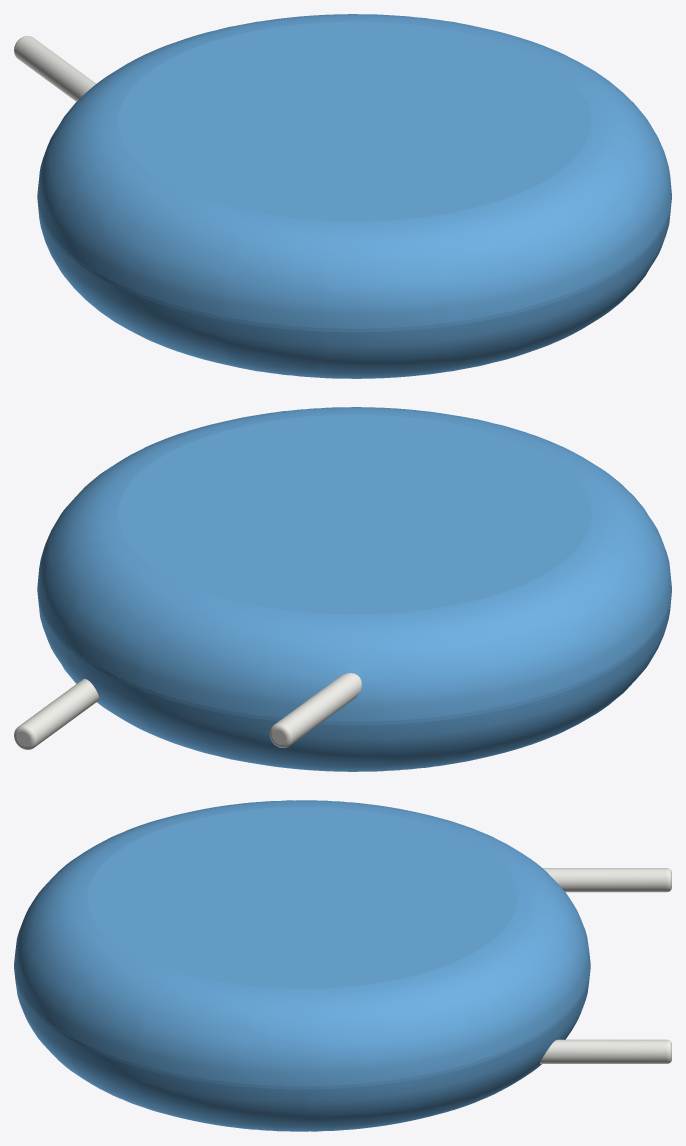
File: RV_Disc_D21.5mm_W5.6mm_P10mm.glb
3 renders of one model, top to bottom at view 1: azimuth 30°, elevation 25°; view 2: azimuth 150°, elevation 25°; view 3: azimuth 270°, elevation 25°, orthographic. The views are drawn at different scales.
Parts seen in each view (by area): view 1: Shape_IndexedFaceSet.001, Shape_IndexedFaceSet.003, Shape_IndexedFaceSet.002, Shape_IndexedFaceSet, Shape_IndexedFaceSet.004; view 2: Shape_IndexedFaceSet.001, Shape_IndexedFaceSet.003, Shape_IndexedFaceSet.002, Shape_IndexedFaceSet, Shape_IndexedFaceSet.004, Shape_IndexedFaceSet.006; view 3: Shape_IndexedFaceSet.001, Shape_IndexedFaceSet.003, Shape_IndexedFaceSet.002, Shape_IndexedFaceSet.006, Shape_IndexedFaceSet.004, Shape_IndexedFaceSet.
Part boxes in pixels (x1,y1,x2,y2): Shape_IndexedFaceSet.001: [37, 14, 671, 328]; Shape_IndexedFaceSet.003: [118, 21, 591, 221]; Shape_IndexedFaceSet.002: [37, 202, 671, 378]; Shape_IndexedFaceSet: [37, 196, 671, 332]; Shape_IndexedFaceSet.004: [14, 36, 96, 101]; Shape_IndexedFaceSet.001: [37, 407, 671, 721]; Shape_IndexedFaceSet.003: [118, 414, 590, 614]; Shape_IndexedFaceSet.002: [37, 575, 671, 771]; Shape_IndexedFaceSet: [37, 589, 671, 725]; Shape_IndexedFaceSet.004: [275, 673, 361, 744]; Shape_IndexedFaceSet.006: [20, 679, 99, 746]; Shape_IndexedFaceSet.001: [14, 800, 590, 1086]; Shape_IndexedFaceSet.003: [87, 807, 517, 988]; Shape_IndexedFaceSet.002: [15, 972, 590, 1131]; Shape_IndexedFaceSet.006: [540, 1039, 666, 1063]; Shape_IndexedFaceSet.004: [543, 868, 666, 892]; Shape_IndexedFaceSet: [14, 966, 590, 1089].
Size of the model in its own units: 8.47 by 2.21 by 9.66.
